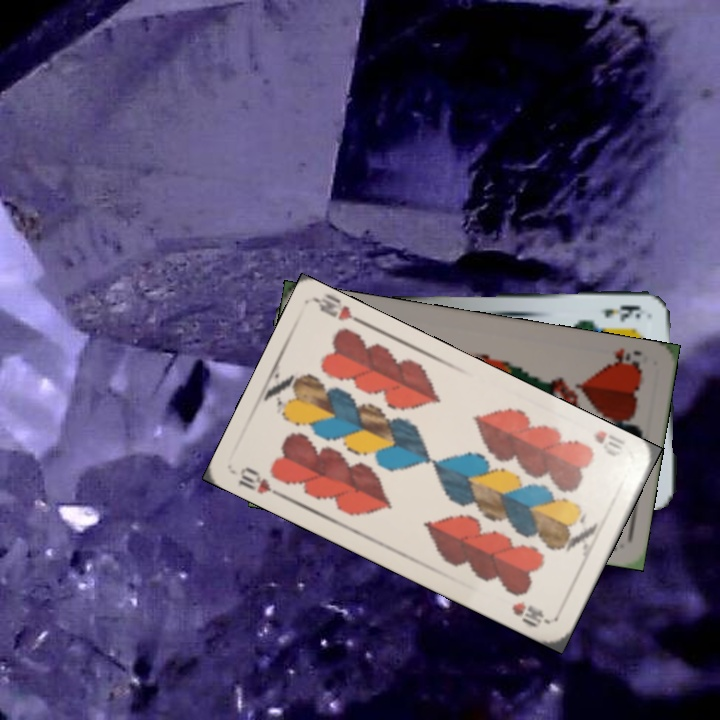EK: (600, 301, 643, 324)
H10: (234, 462, 287, 501), (589, 426, 628, 459)
HO: (603, 343, 645, 373)
